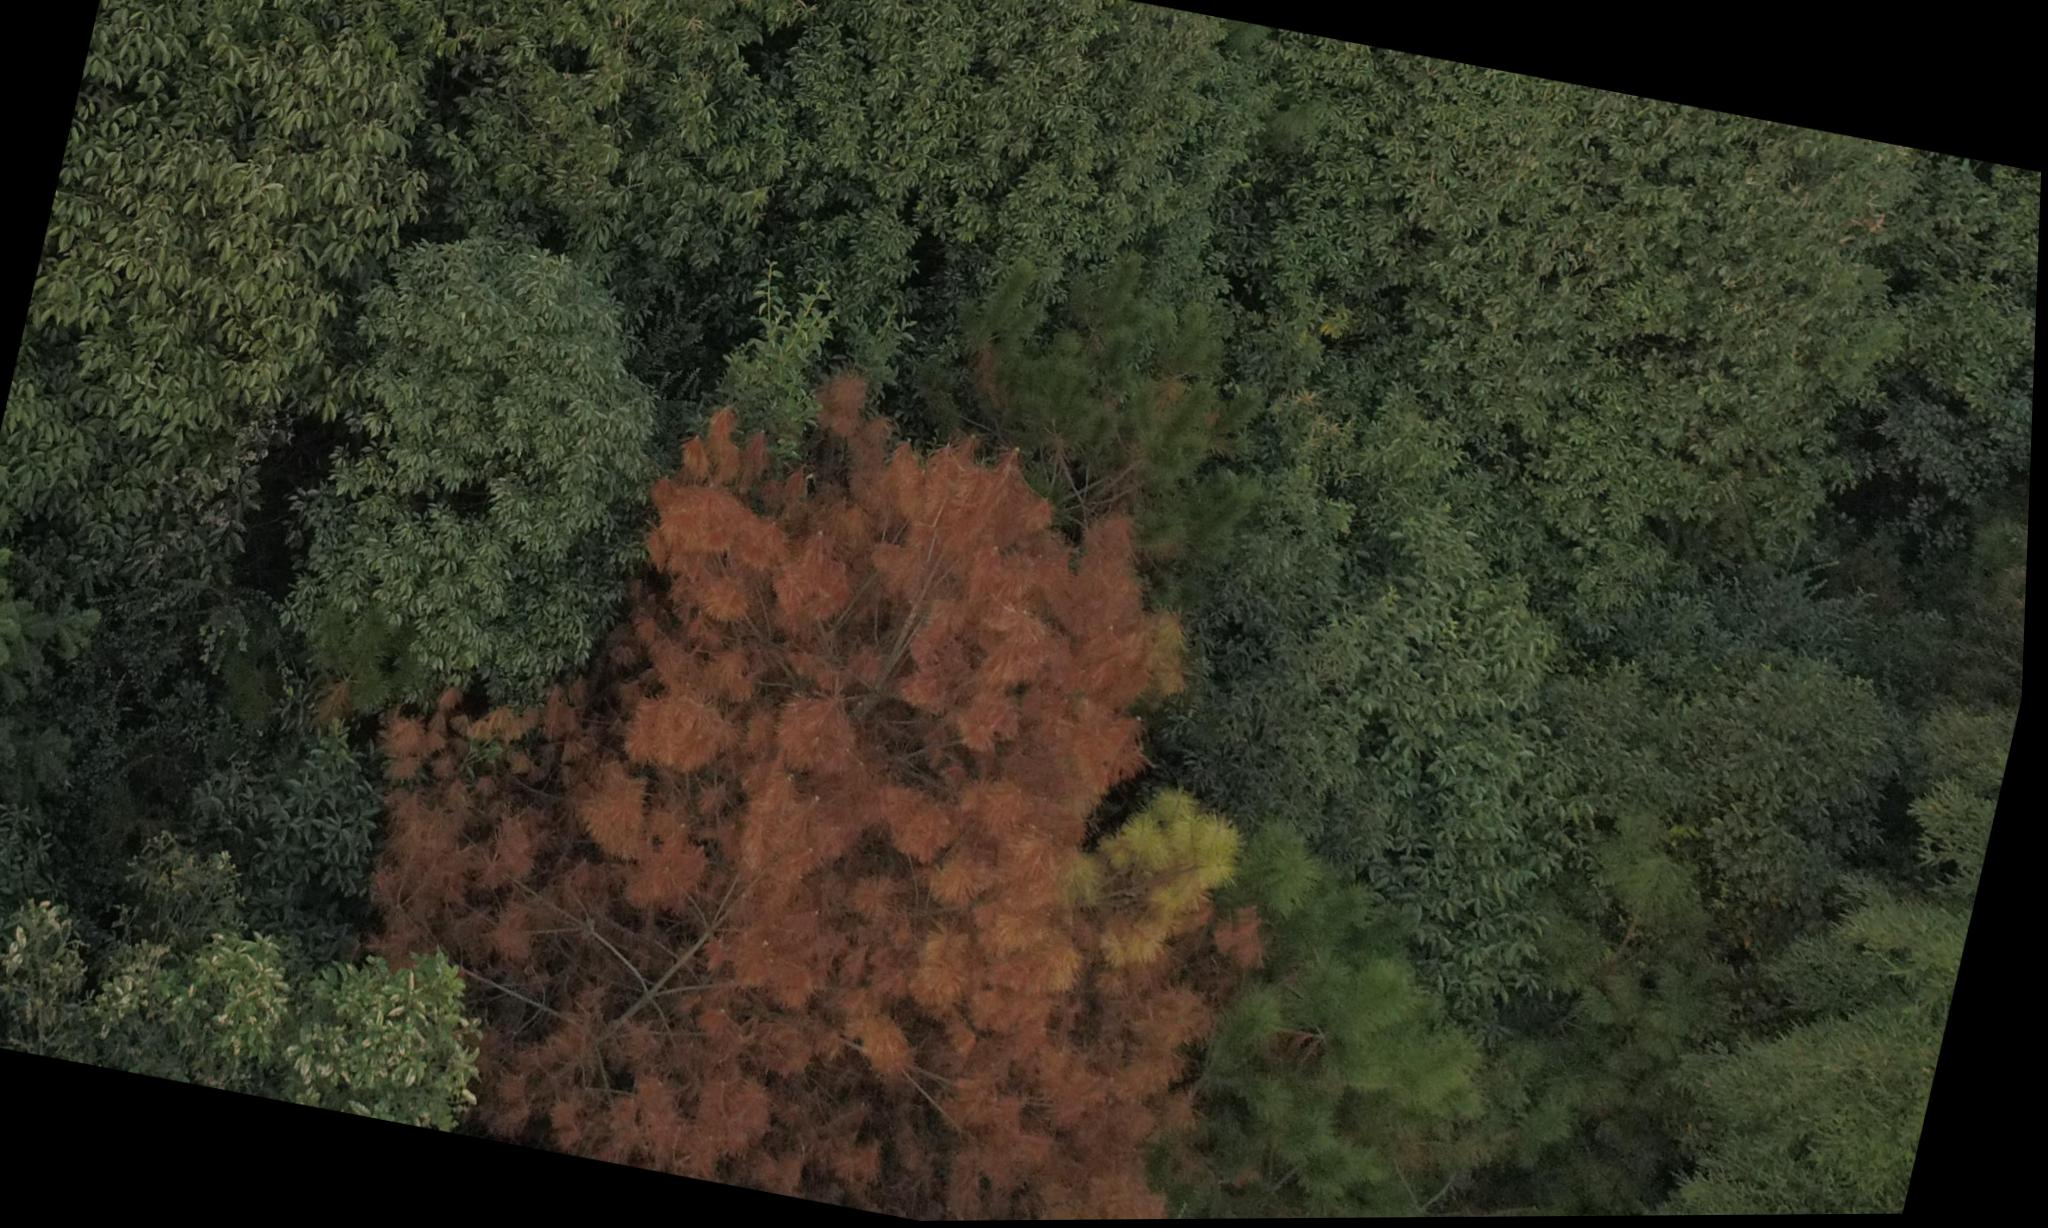heavy: (294, 308, 1346, 1227)
